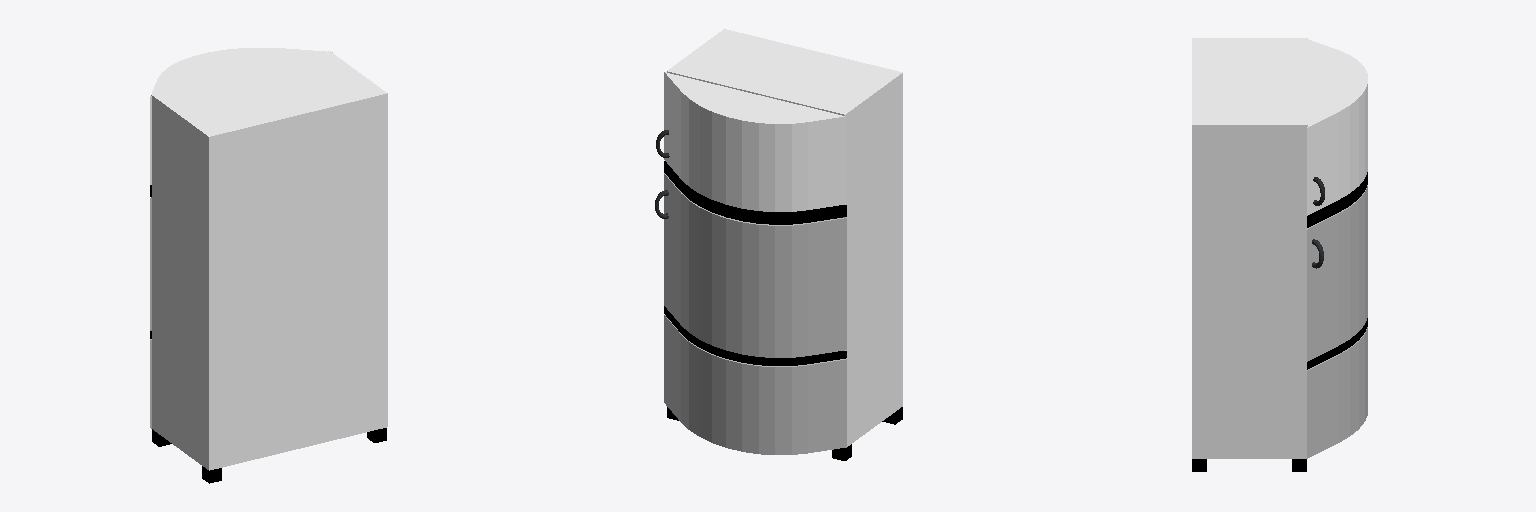
File: ref.obj
The picture shows the model from 3 angles: view 1: azimuth 30°, elevation 25°; view 2: azimuth 150°, elevation 25°; view 3: azimuth 270°, elevation 25°; orthographic projection.
Visible parts, largest first — view 1: Cubo.007_Cubo.008; view 2: Cubo.007_Cubo.008; view 3: Cubo.007_Cubo.008.
Part boxes in pixels (x1,y1,x2,y2): Cubo.007_Cubo.008: (150,48,387,483); Cubo.007_Cubo.008: (655,29,902,460); Cubo.007_Cubo.008: (1192,38,1367,471).
Size of the model in its own units: 29.02 by 51.97 by 23.94.